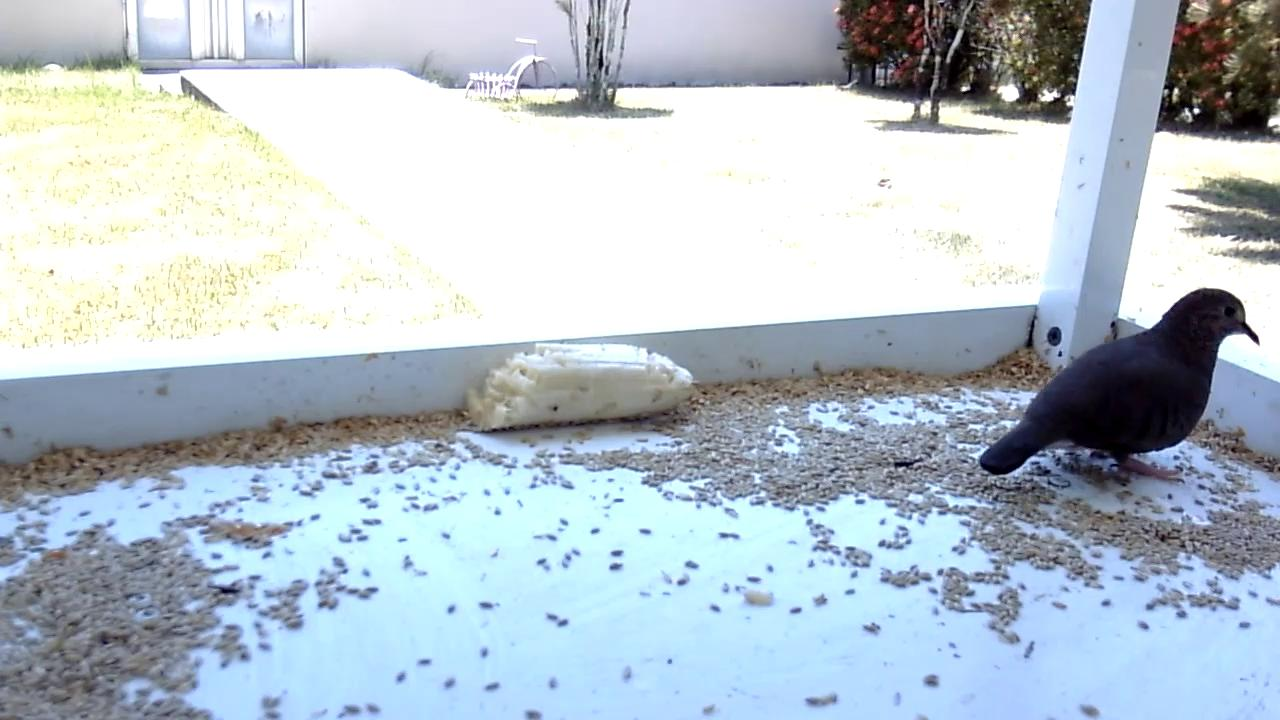rolinha: (976, 286, 1263, 488)
